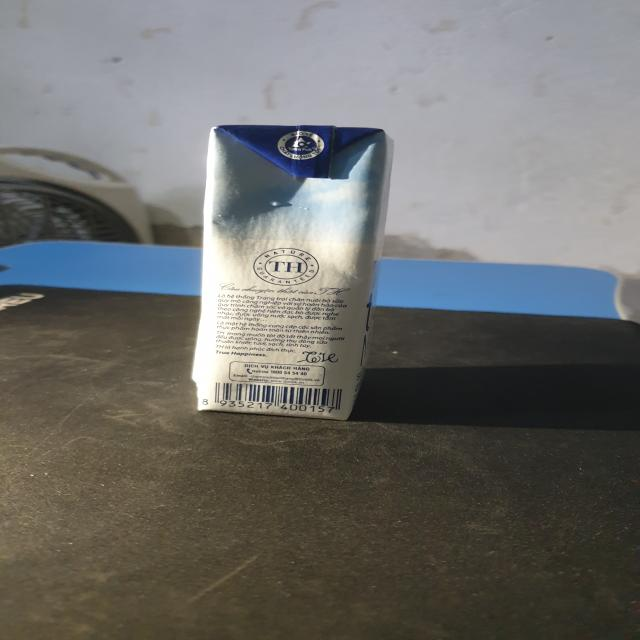TH: (187, 126, 385, 422)
